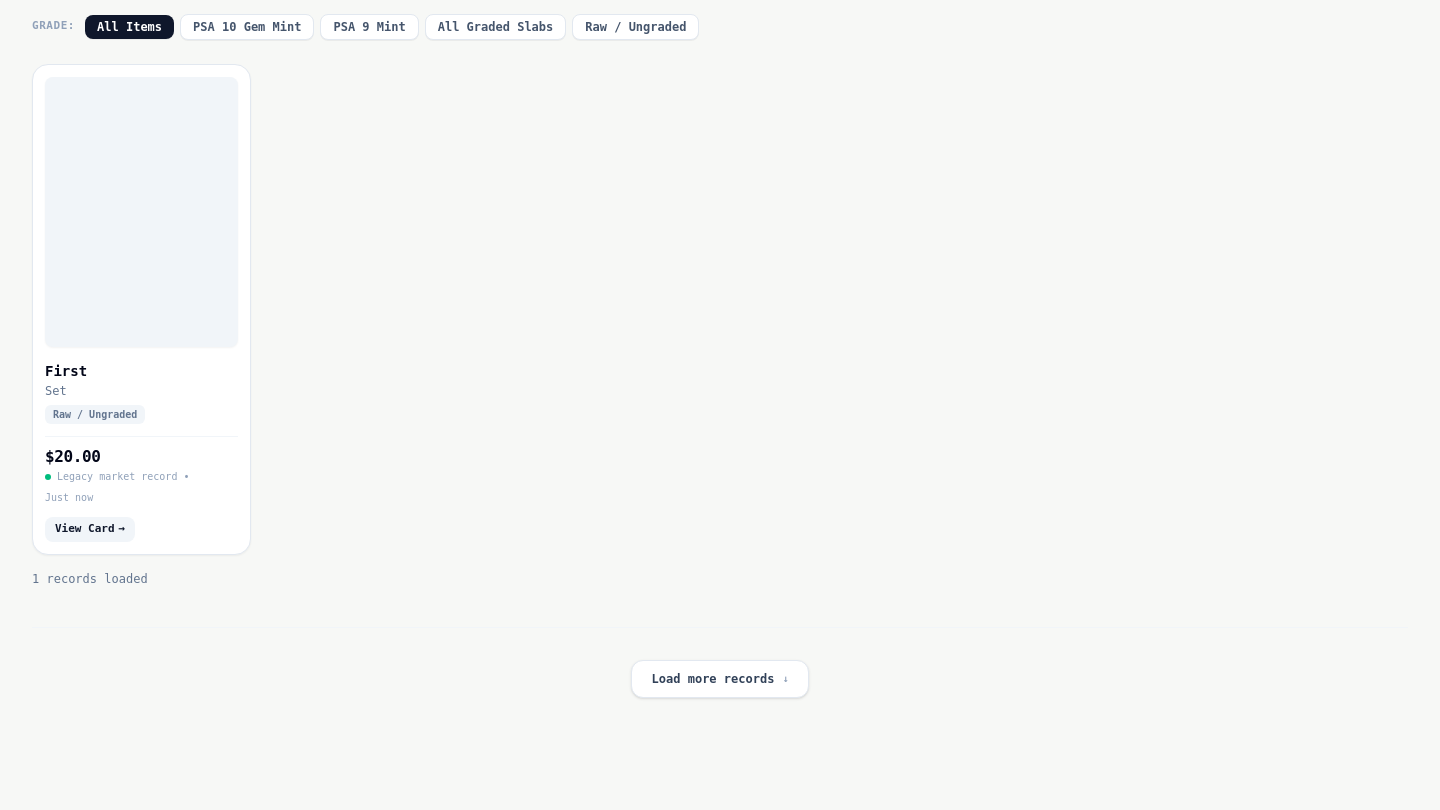
Test: keeps final-page has_more after a first-page poll
(page scrolled)
Click the button "Load more records ↓". click: x=720, y=679
box: [631,660,810,698]
Wait 15000 ms
(page scrolled)
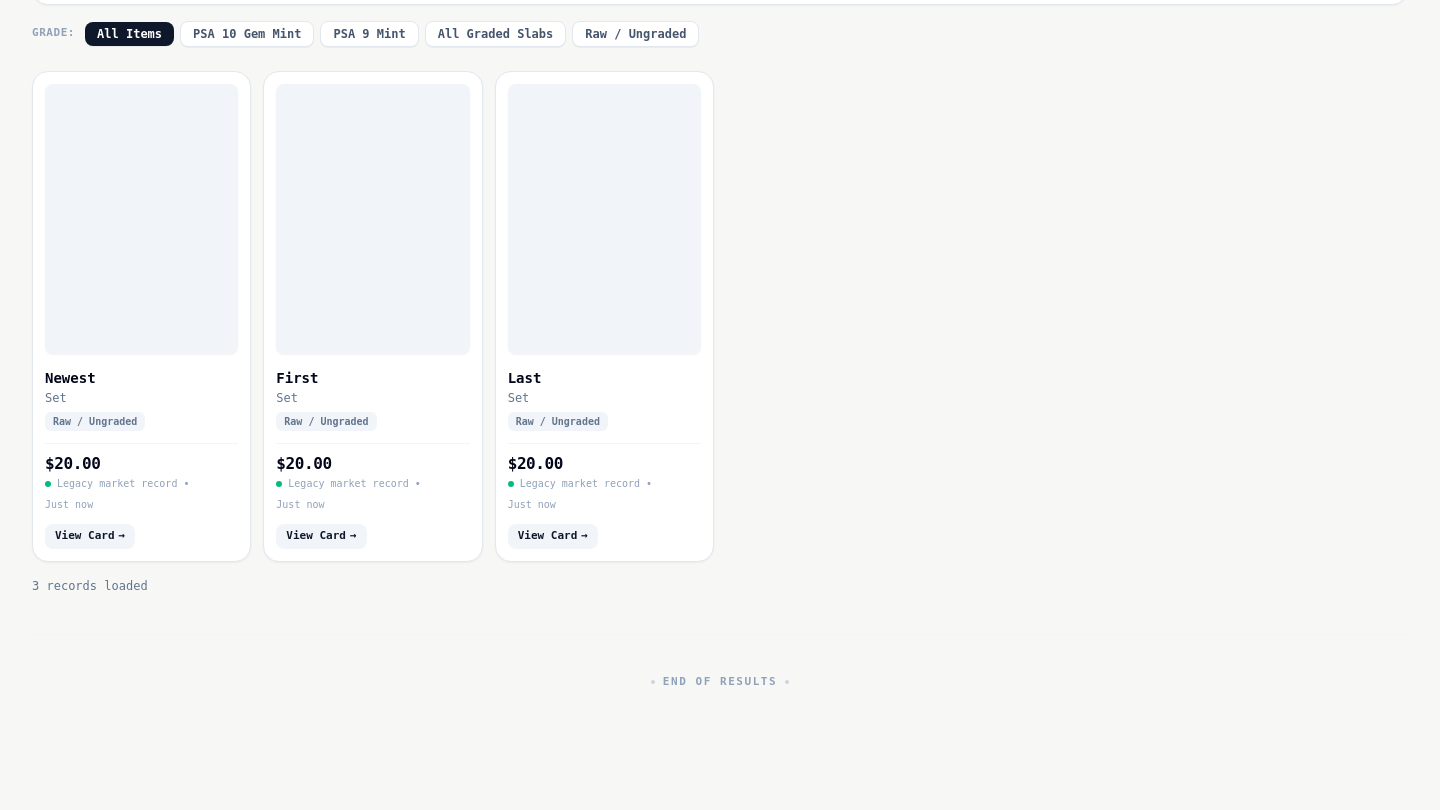
Now the link "Newest" is shown, box [45,368,96,388]
Now the link "Last" is shown, box [508,368,541,388]
Now the text "End of results" is shown, box [663,674,777,690]
